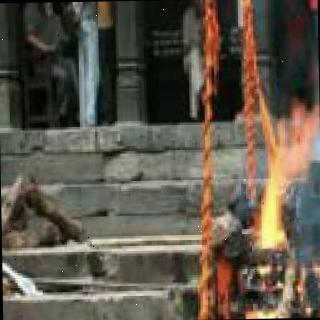fire: (246, 100, 318, 253), (302, 213, 320, 317)
